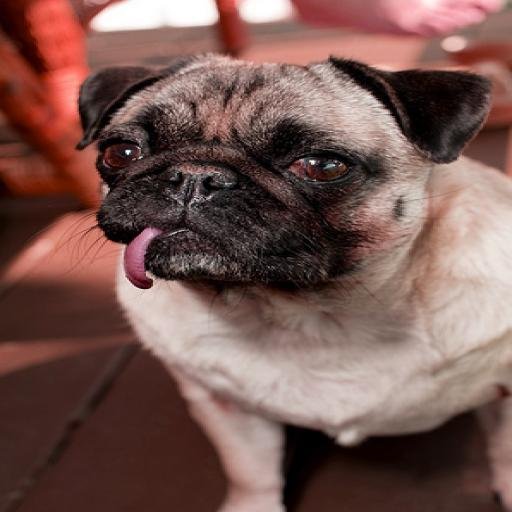dog_face: (72, 46, 490, 287)
